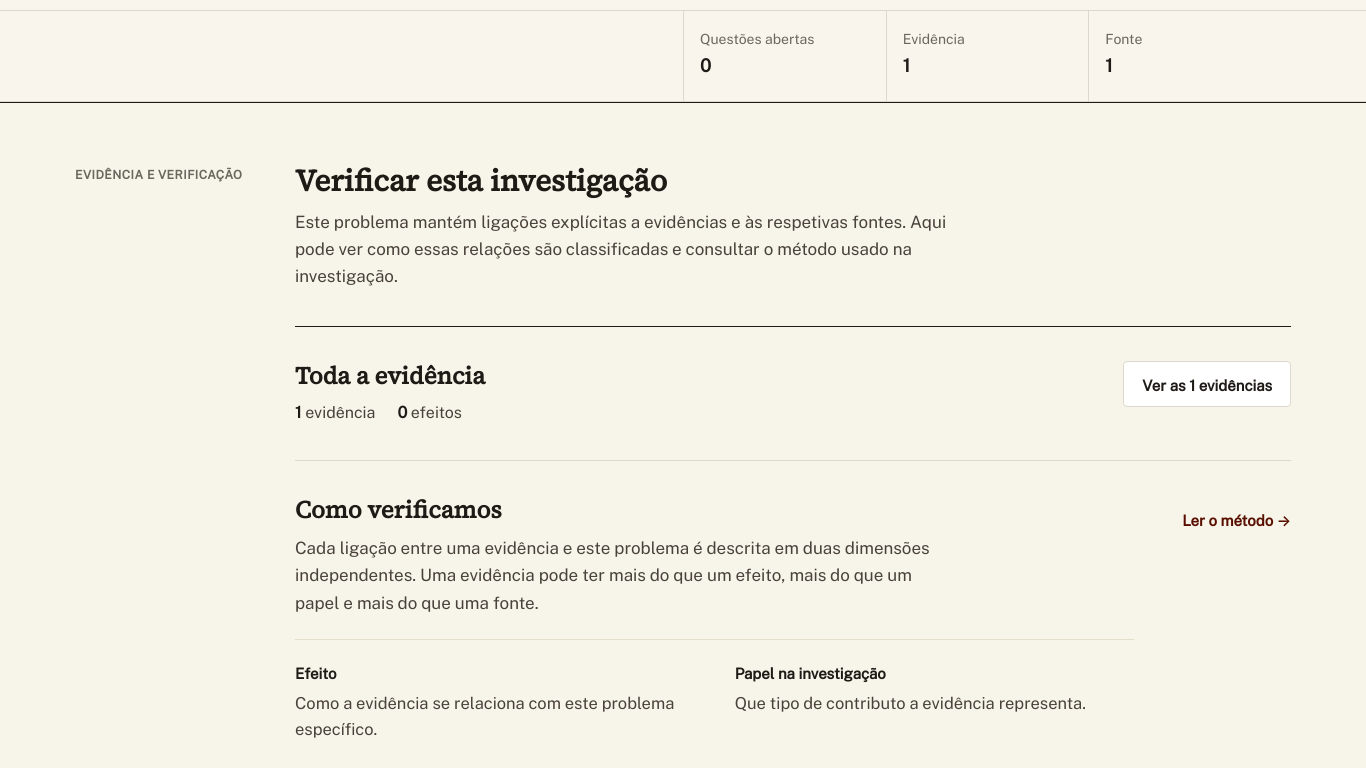
Test: PrbDetailsPresentation — audit evidence drawer › labels evidence observation time separately from source publication time
(page scrolled)
Step 1. Click the button "Ver as 1 evidências" → click(1207, 384), box x1=1123 y1=362 x2=1291 y2=408
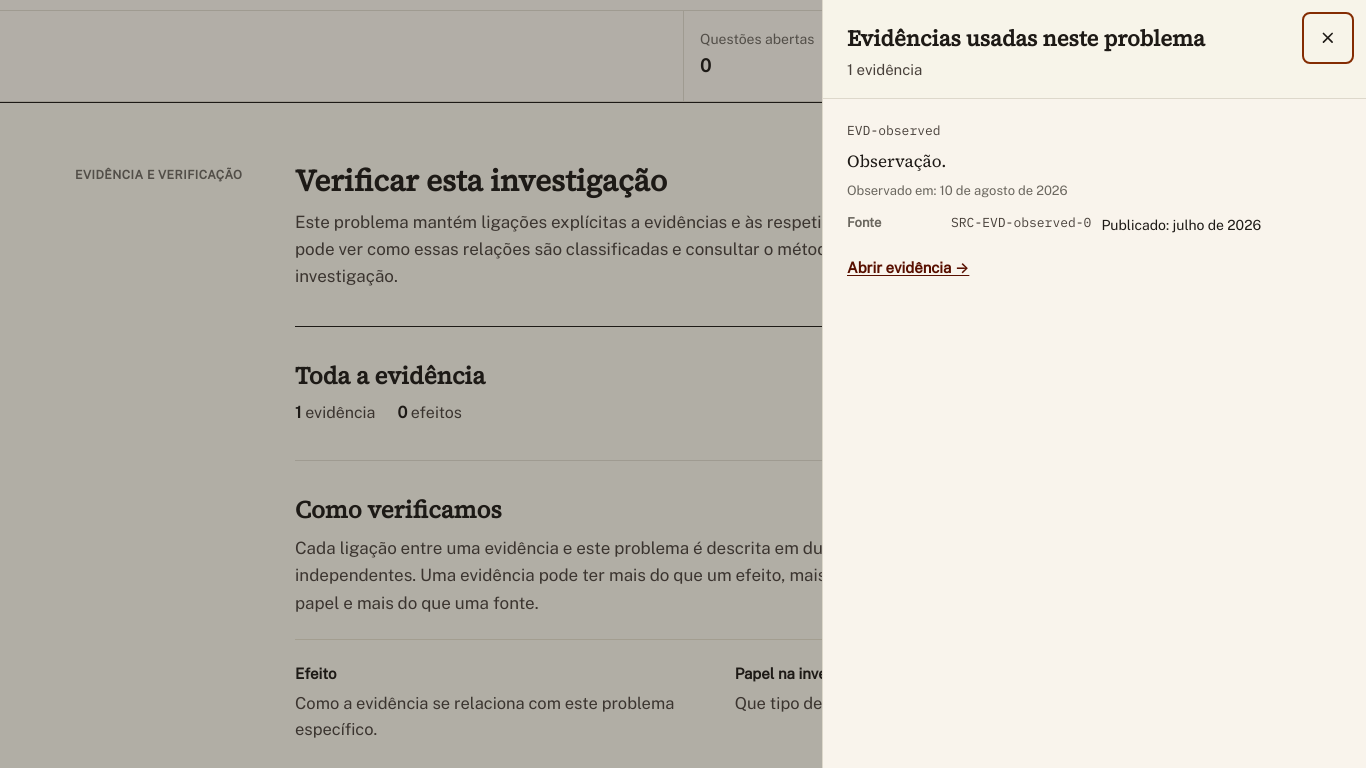
Now the text "Observado em: 10 de agosto de 2026" is shown, box x1=847 y1=183 x2=1068 y2=198
Now the text "Publicado: julho de 2026" is shown, box x1=1101 y1=215 x2=1261 y2=235
